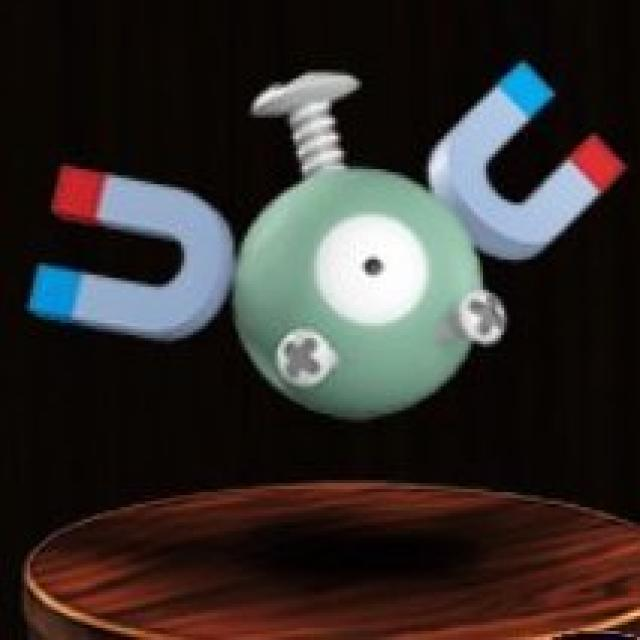Magnemite: (44, 68, 625, 431)
